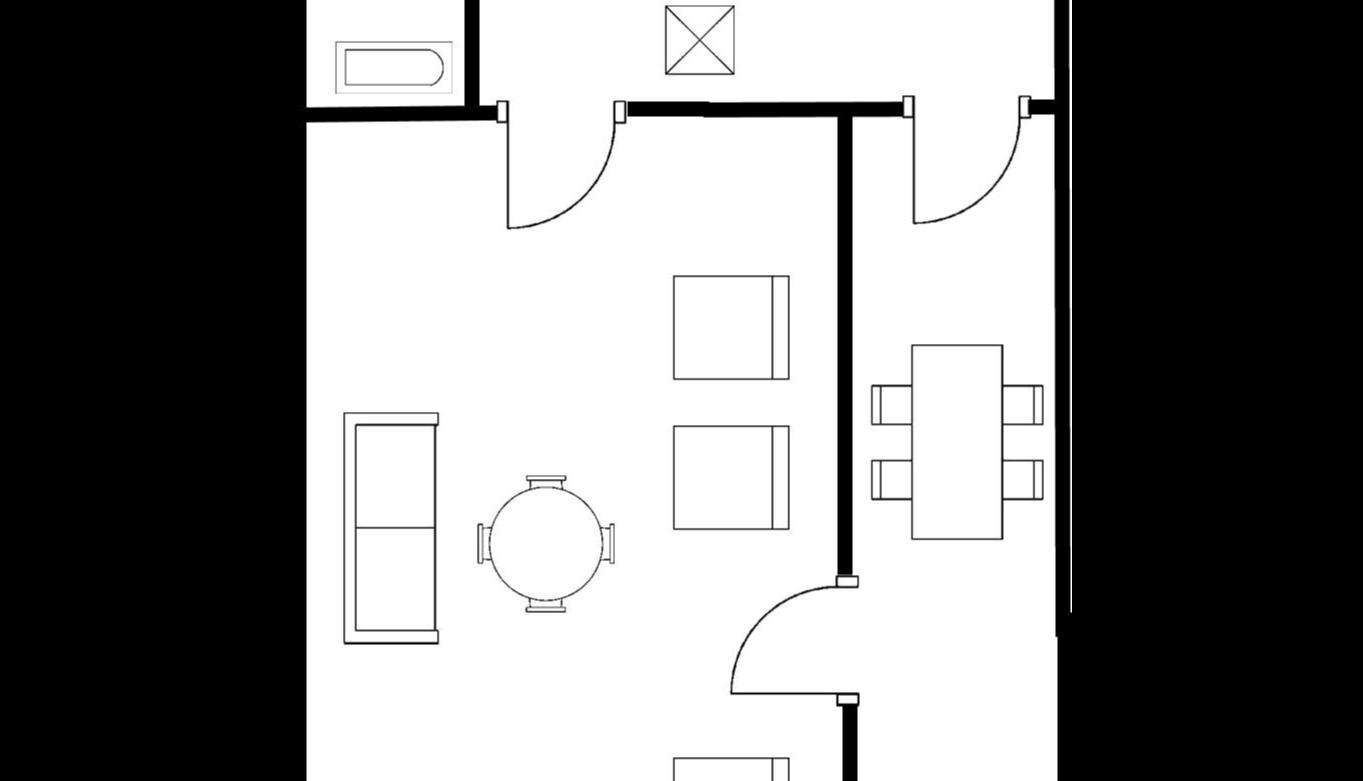dining_table: (860, 336, 1048, 548)
round_table: (470, 466, 622, 620)
sofa: (333, 405, 445, 653)
tub: (325, 31, 457, 102)
